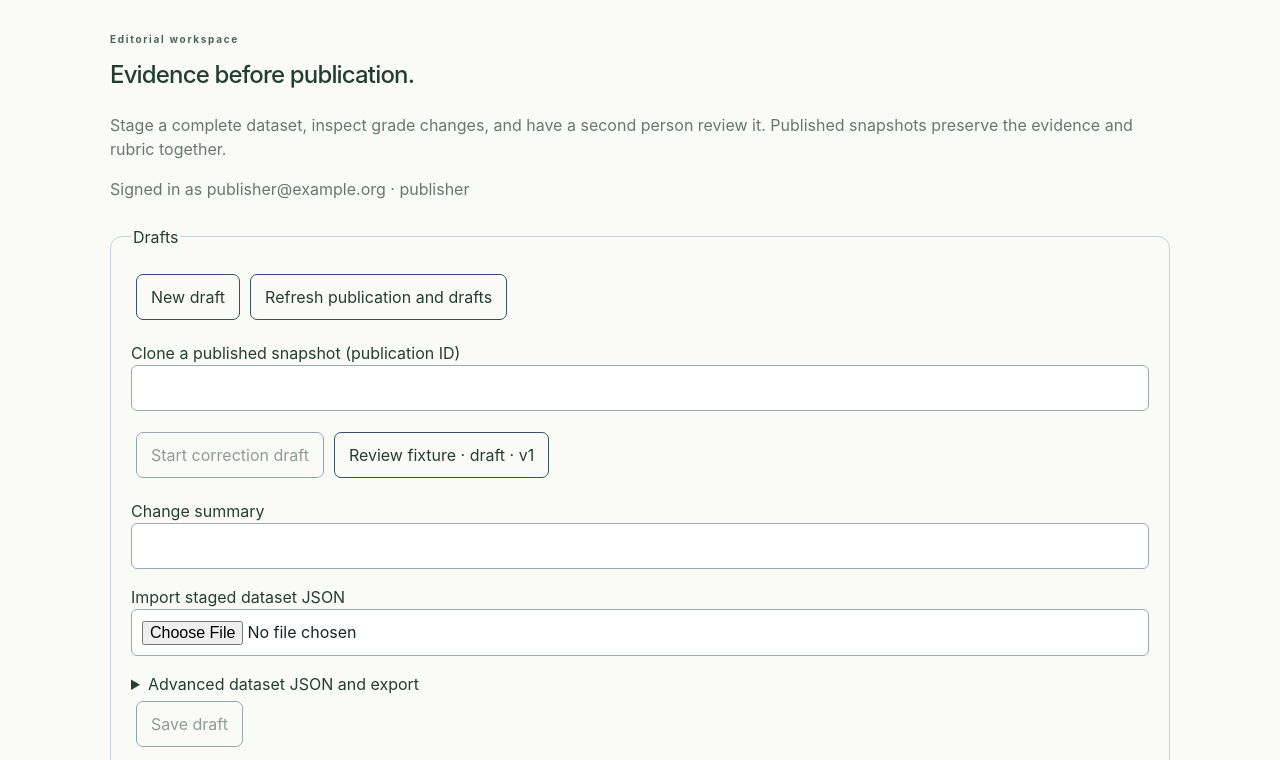
Scenario: Staff editing workflow › loads draft summaries first and fetches only the selected dataset
Click the button "Review fixture · draft · v1": point(442, 455) x1=334 y1=432 x2=549 y2=478
(page scrolled)
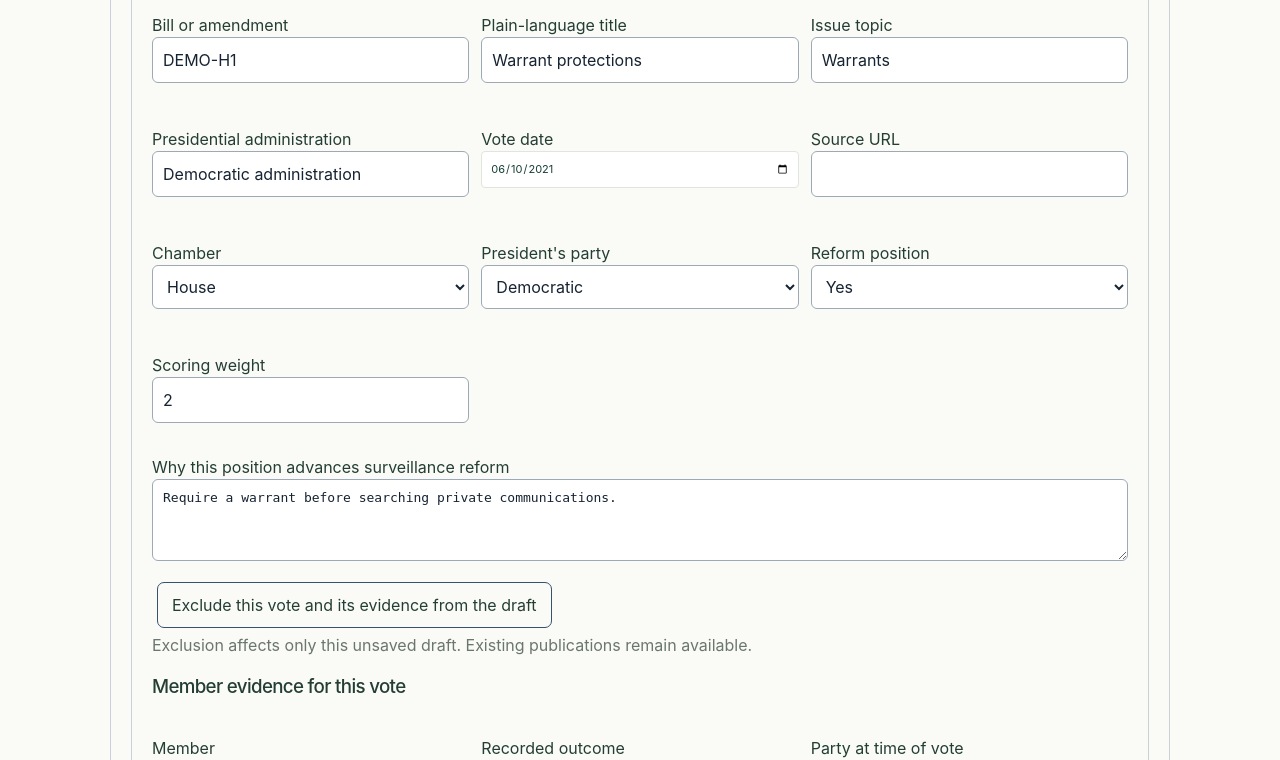
expect the number field labelled "Scoring weight" is shown: met, box x1=152 y1=377 x2=469 y2=423
